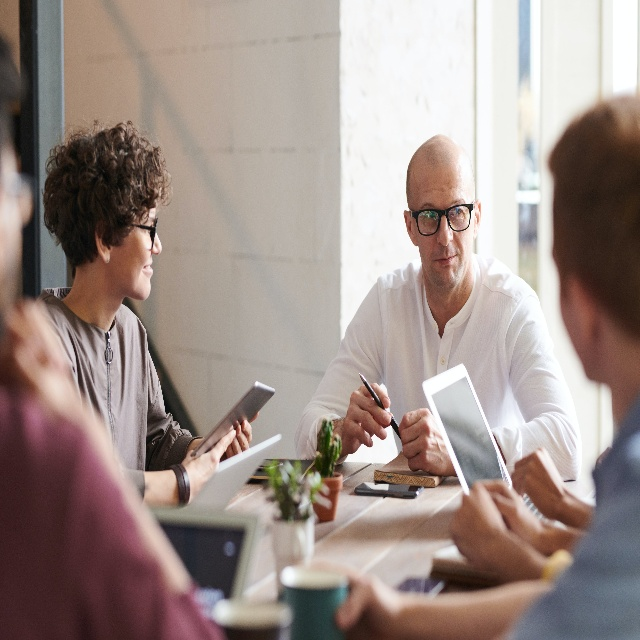Gafas: (409, 202, 474, 237), (132, 216, 159, 251)
Sin_guantes: (449, 477, 506, 572), (332, 573, 396, 640), (482, 478, 540, 549), (510, 446, 564, 520), (399, 408, 455, 479), (180, 427, 238, 493), (343, 382, 392, 455), (226, 411, 260, 459)
